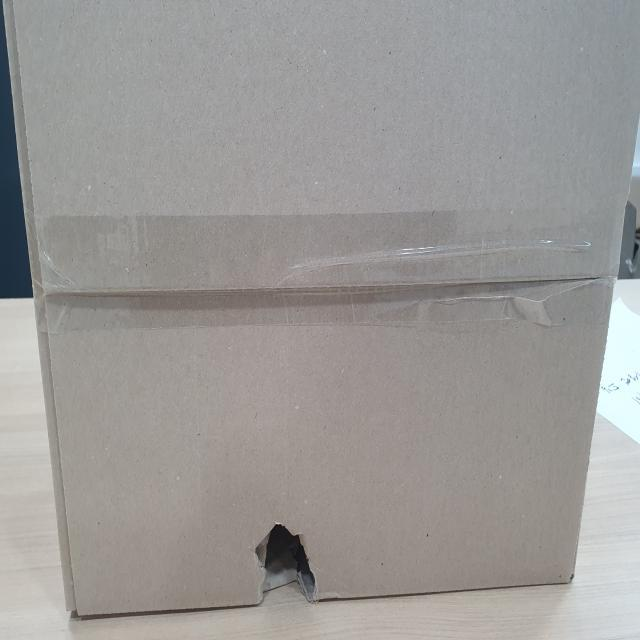hole: (250, 522, 320, 604)
